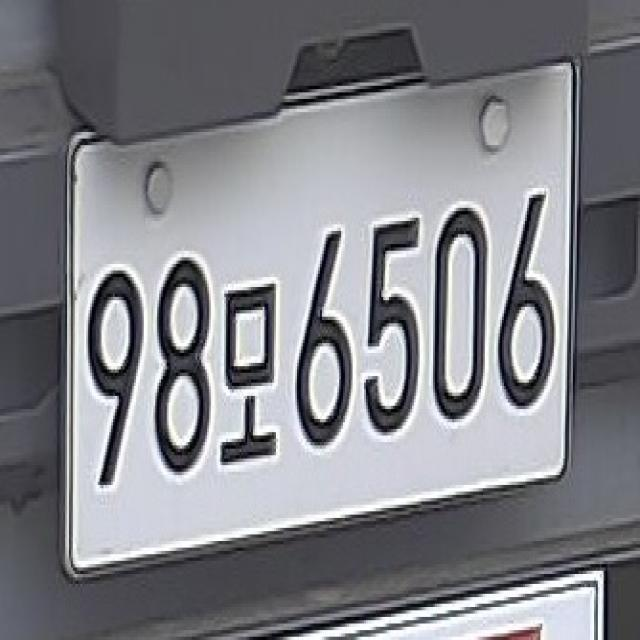0: (428, 192, 494, 446)
5: (362, 202, 424, 451)
6: (291, 218, 358, 464), (498, 182, 558, 422)
8: (150, 245, 212, 492)
9: (82, 252, 144, 503)
license_plate: (62, 53, 584, 586)
mo: (218, 256, 286, 488)
